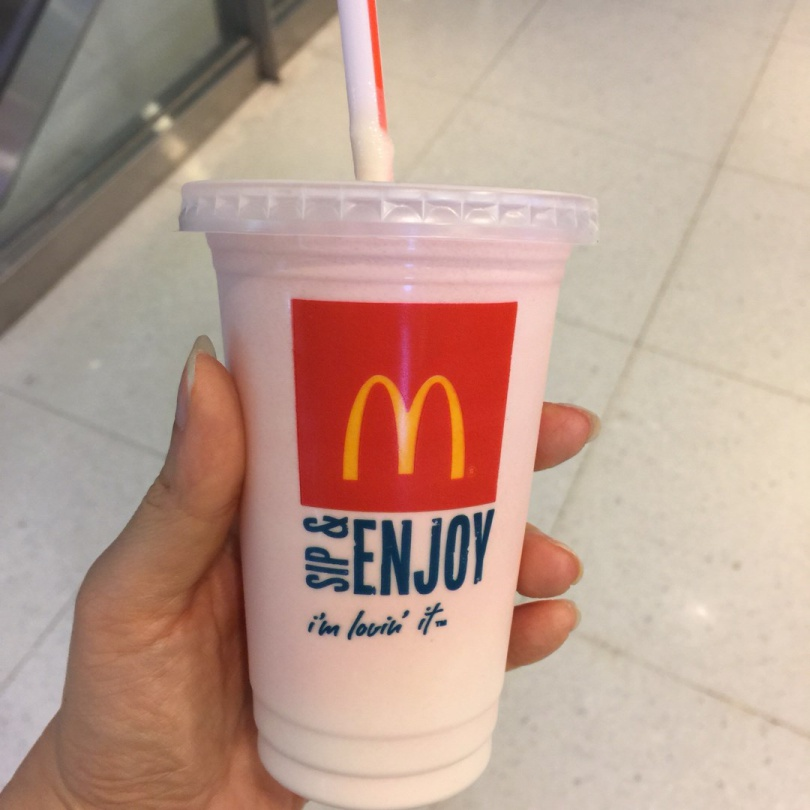mcdonalds: (337, 367, 476, 495)
